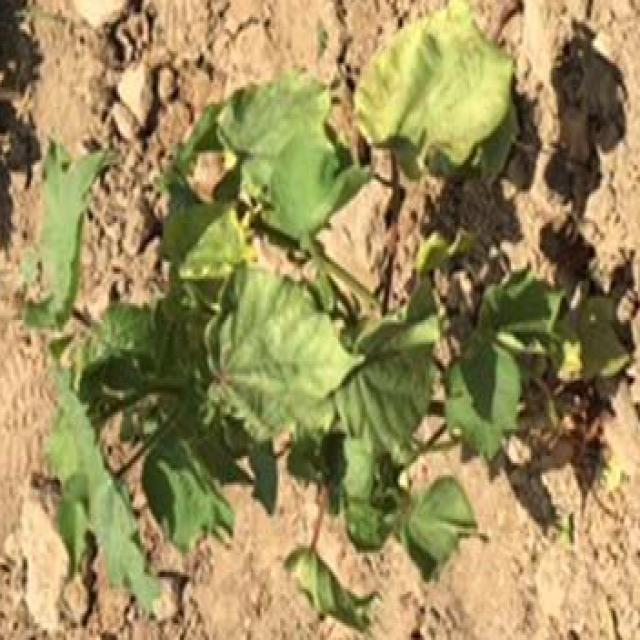Fusarium Wilt: (102, 106, 521, 470)
